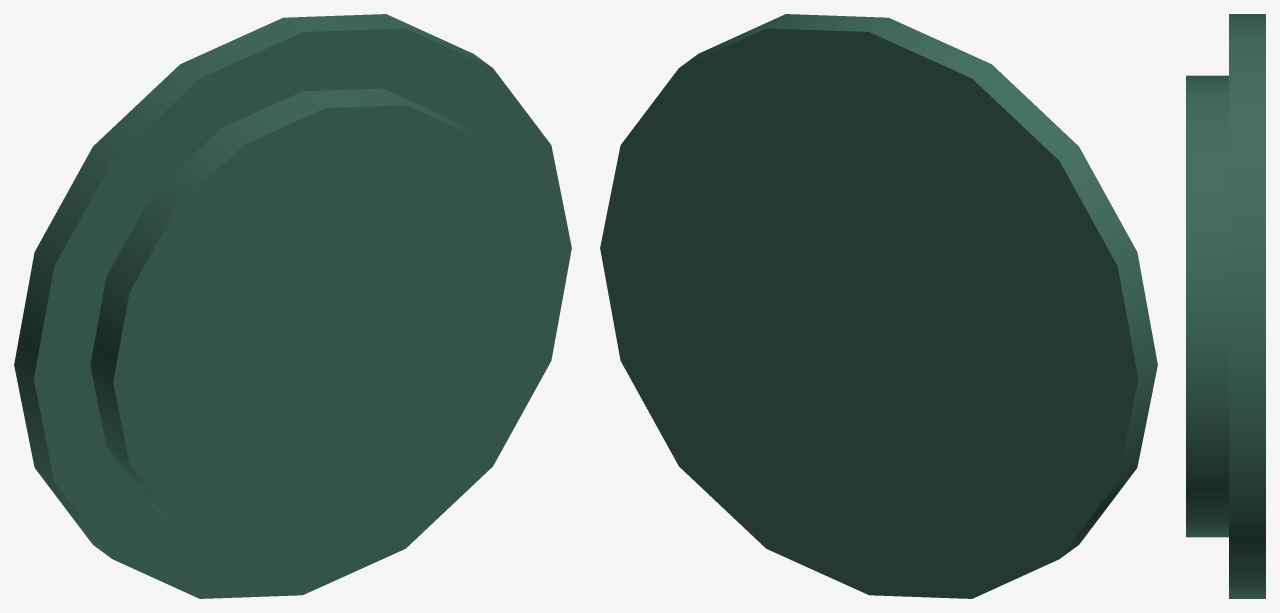
The model's file is hangar2_flange.obj.
3 views of the same model, side by side, from view 1: azimuth 30°, elevation 25°; view 2: azimuth 150°, elevation 25°; view 3: azimuth 270°, elevation 25° (orthographic). The views are drawn at different scales.
Visible parts, largest first — view 1: hangar2_flange; view 2: hangar2_flange; view 3: hangar2_flange.
Part boxes in pixels (x1,y1,x2,y2): hangar2_flange: (14, 14, 571, 598); hangar2_flange: (600, 14, 1157, 598); hangar2_flange: (1186, 14, 1265, 598).
Size of the model in its own units: 1.9 by 1.9 by 0.2595.
